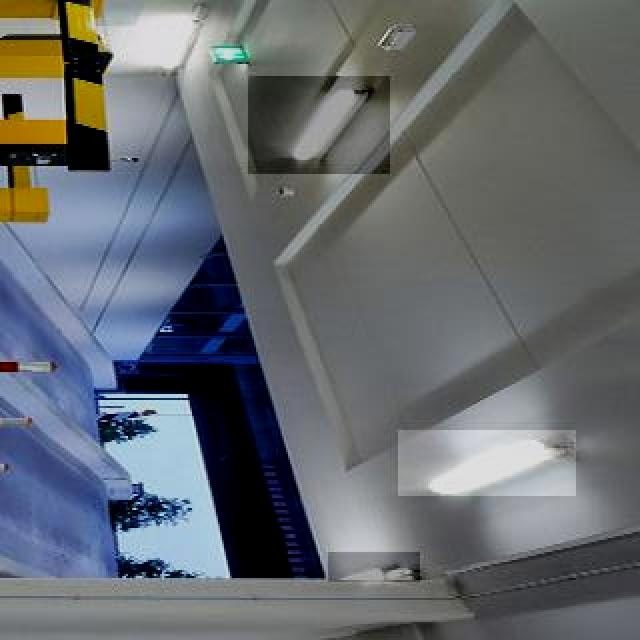fluorescent tube: (396, 431, 576, 494), (275, 86, 385, 169)
